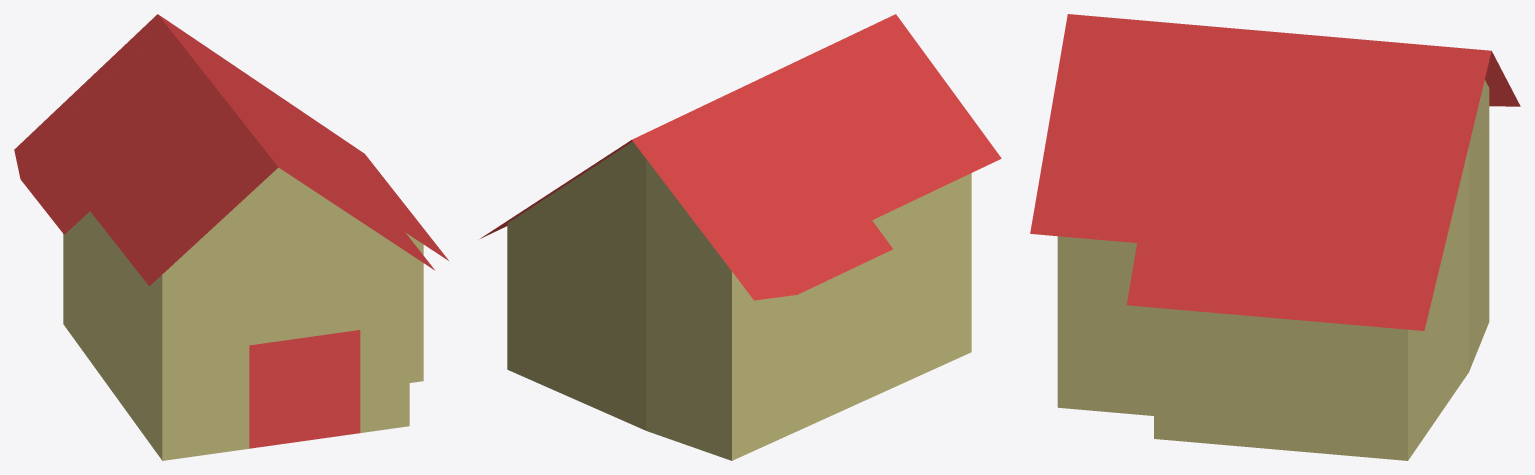
The picture shows the model from 3 angles, left to right: view 1: azimuth 30°, elevation 25°; view 2: azimuth 150°, elevation 25°; view 3: azimuth 270°, elevation 25°; orthographic projection. The views are drawn at different scales.
Bounding box in the file's own units: 20.12 × 21.04 × 15.32.
